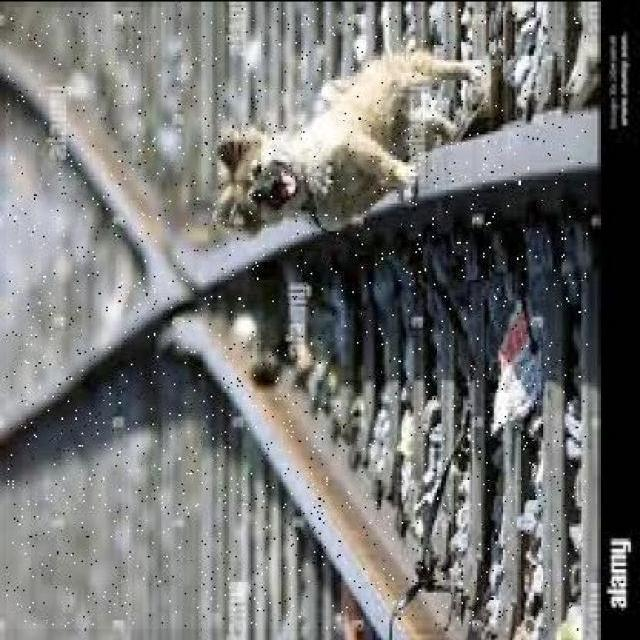rail: (7, 9, 589, 631)
